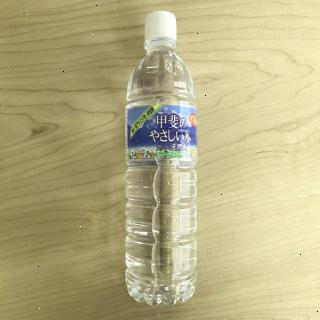Plastic-bottle: (124, 9, 200, 311)
